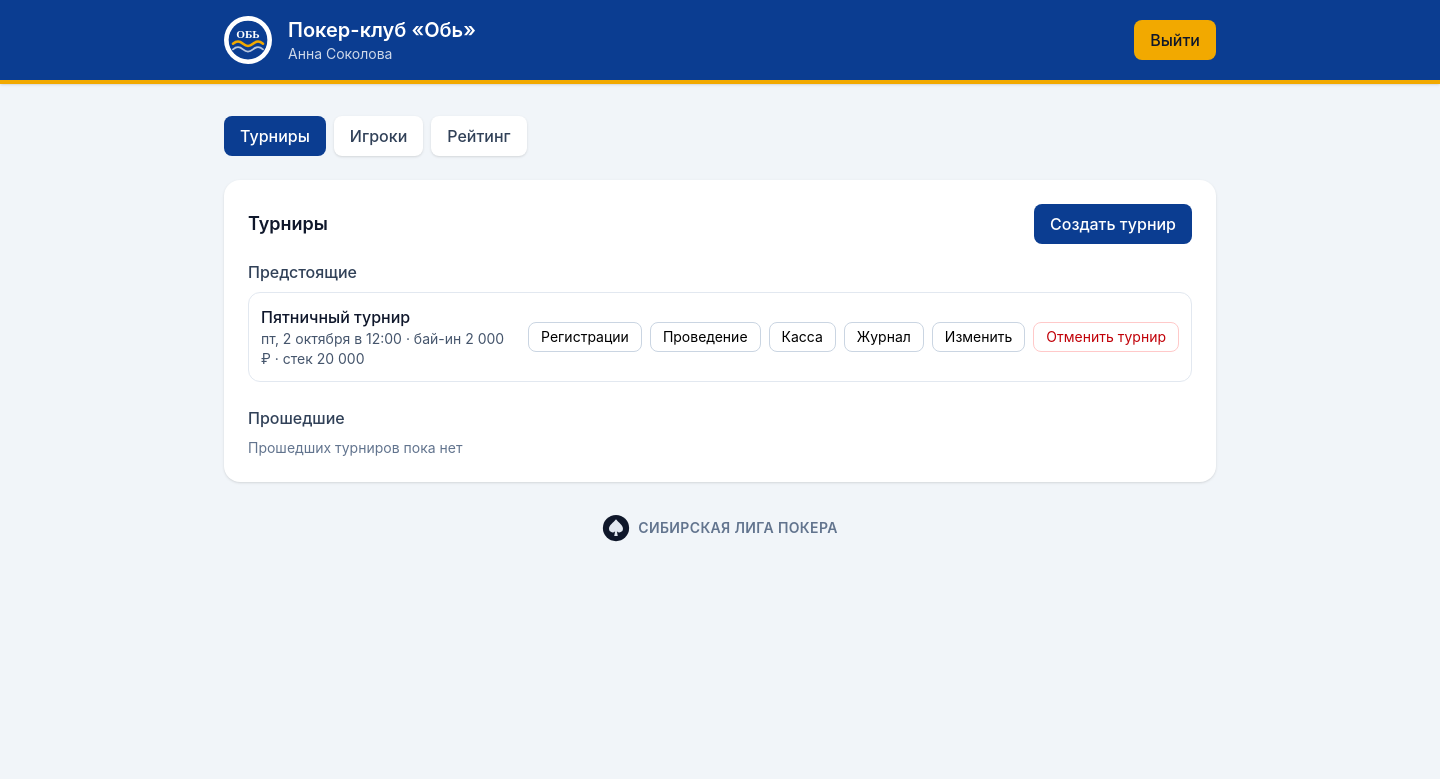
tournament registrations › adds a new player and registers them in one go
This screenshot has width=1440, height=779.
Click the button "Регистрации".
click(585, 337)  # box [528,322,642,352]
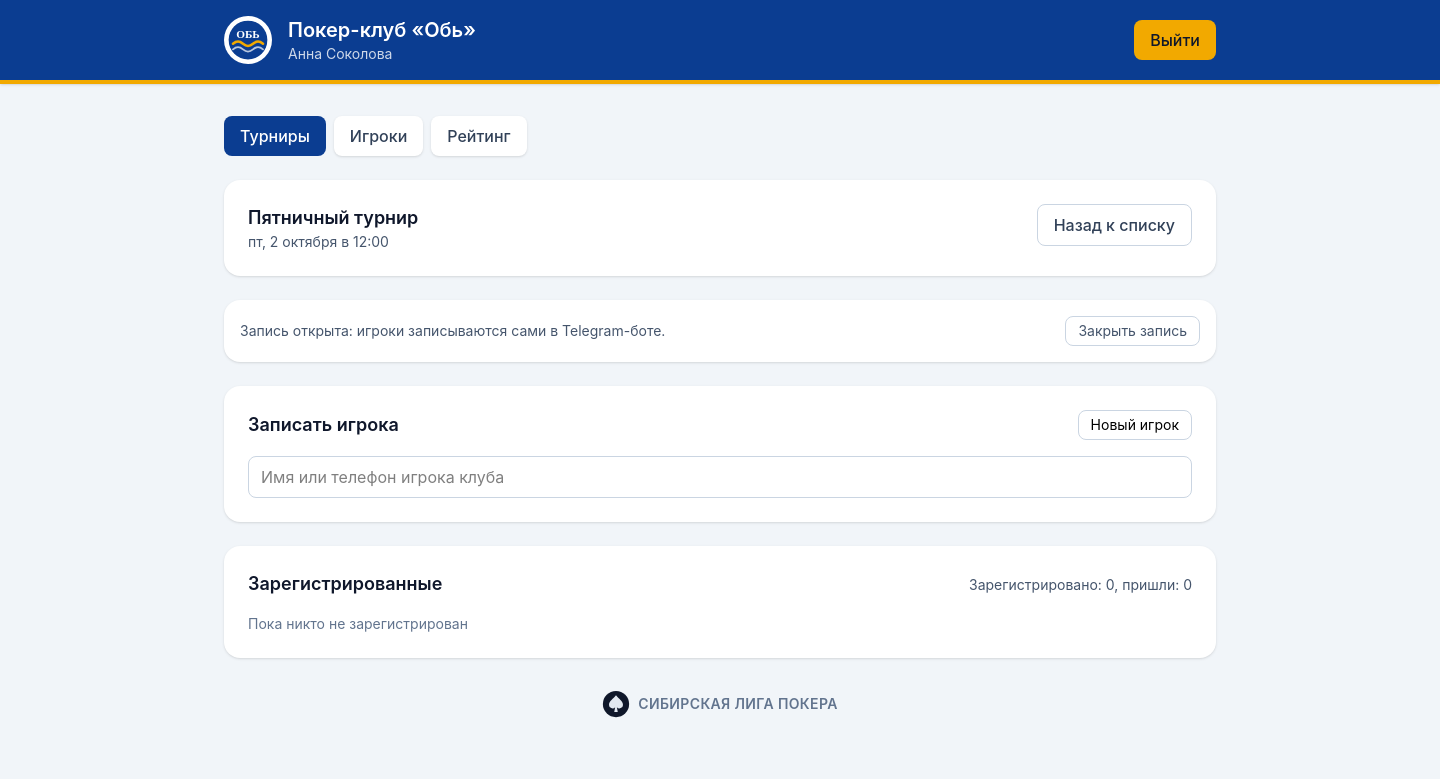
Check: the heading "Пятничный турнир" is shown, box [248,204,418,232]
Click the button "Новый игрок".
click(1135, 425)  # box [1078,410,1192,440]
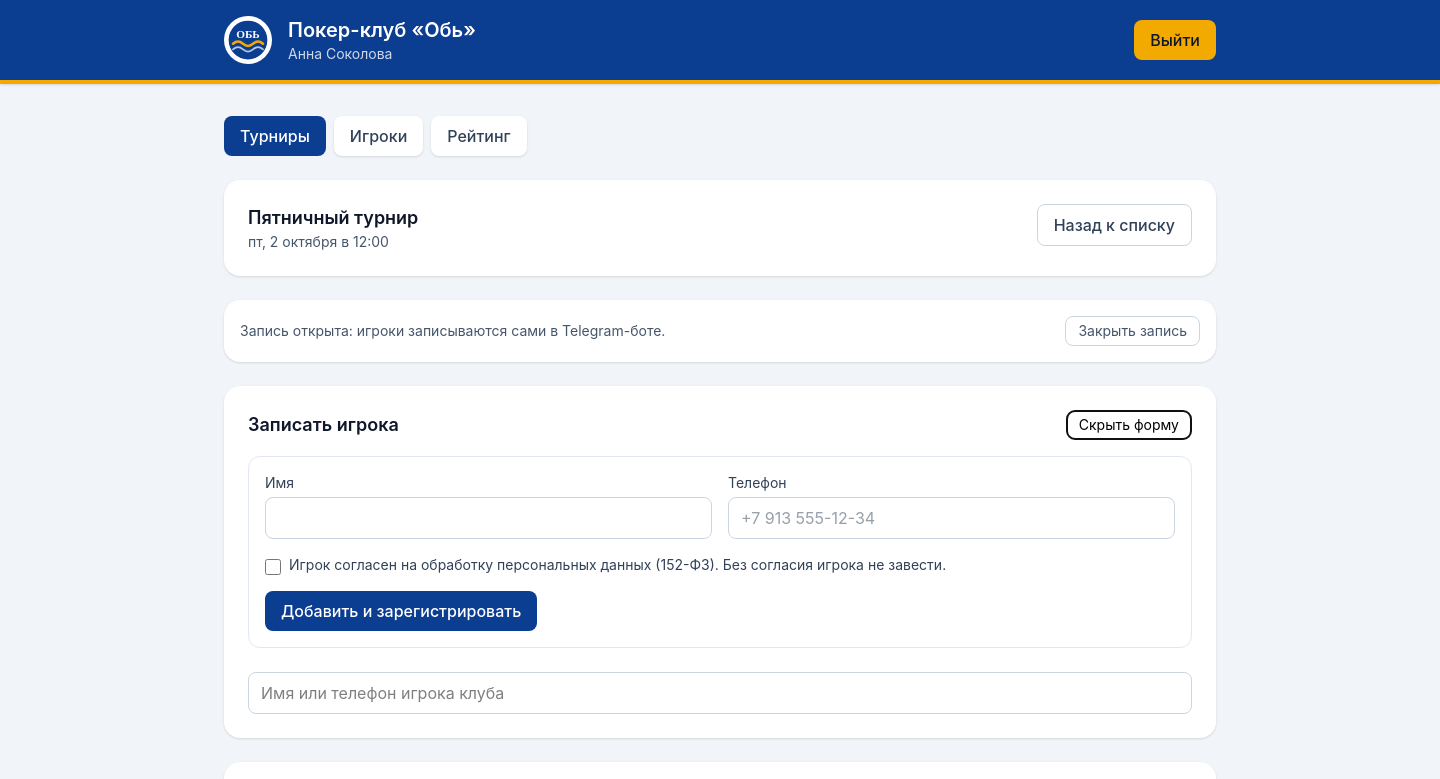
Type "Сергей Никитин" into the field labelled "Имя".
click(488, 518); type("Сергей Никитин")  # box [265,497,712,539]
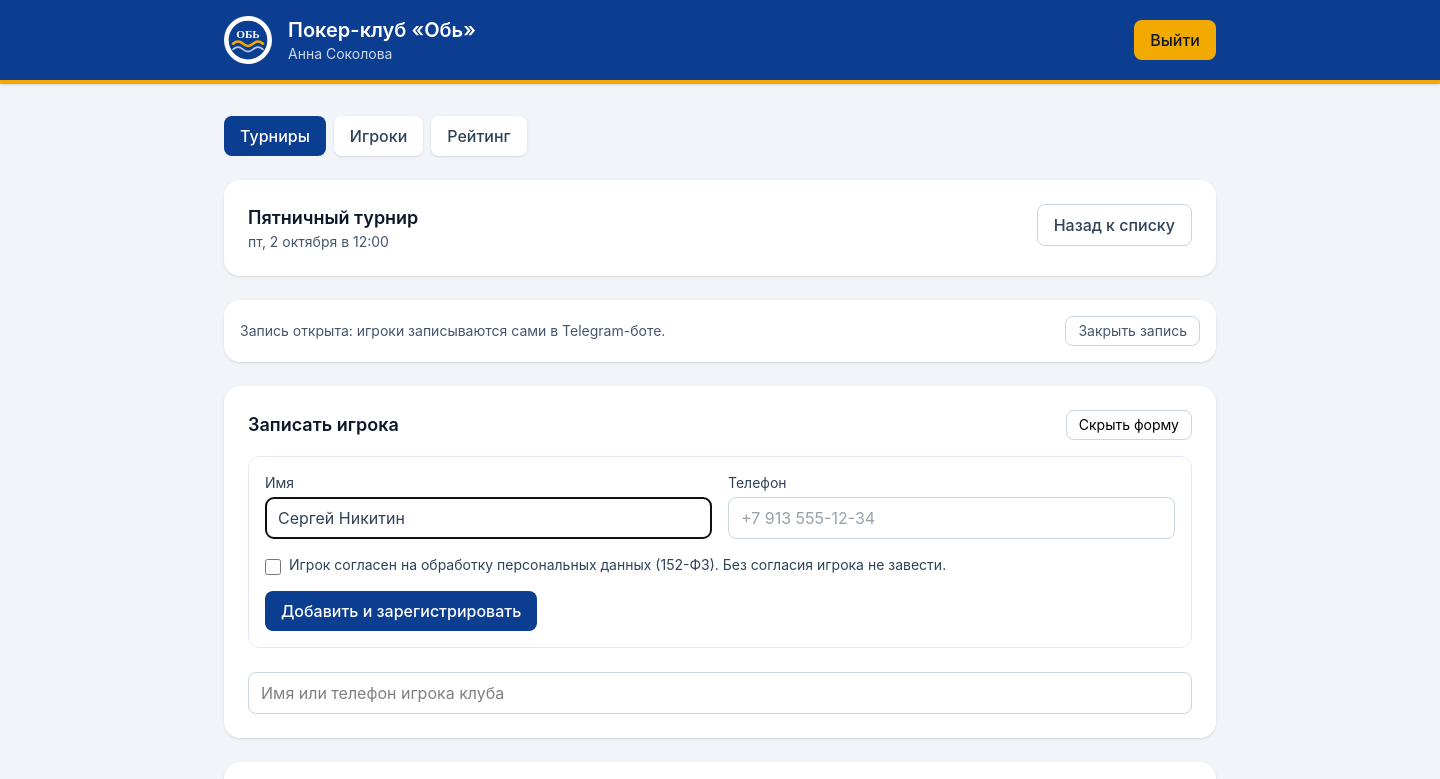
Type "89131110003" into the field labelled "Телефон".
click(952, 518); type("89131110003")  # box [728,497,1175,539]
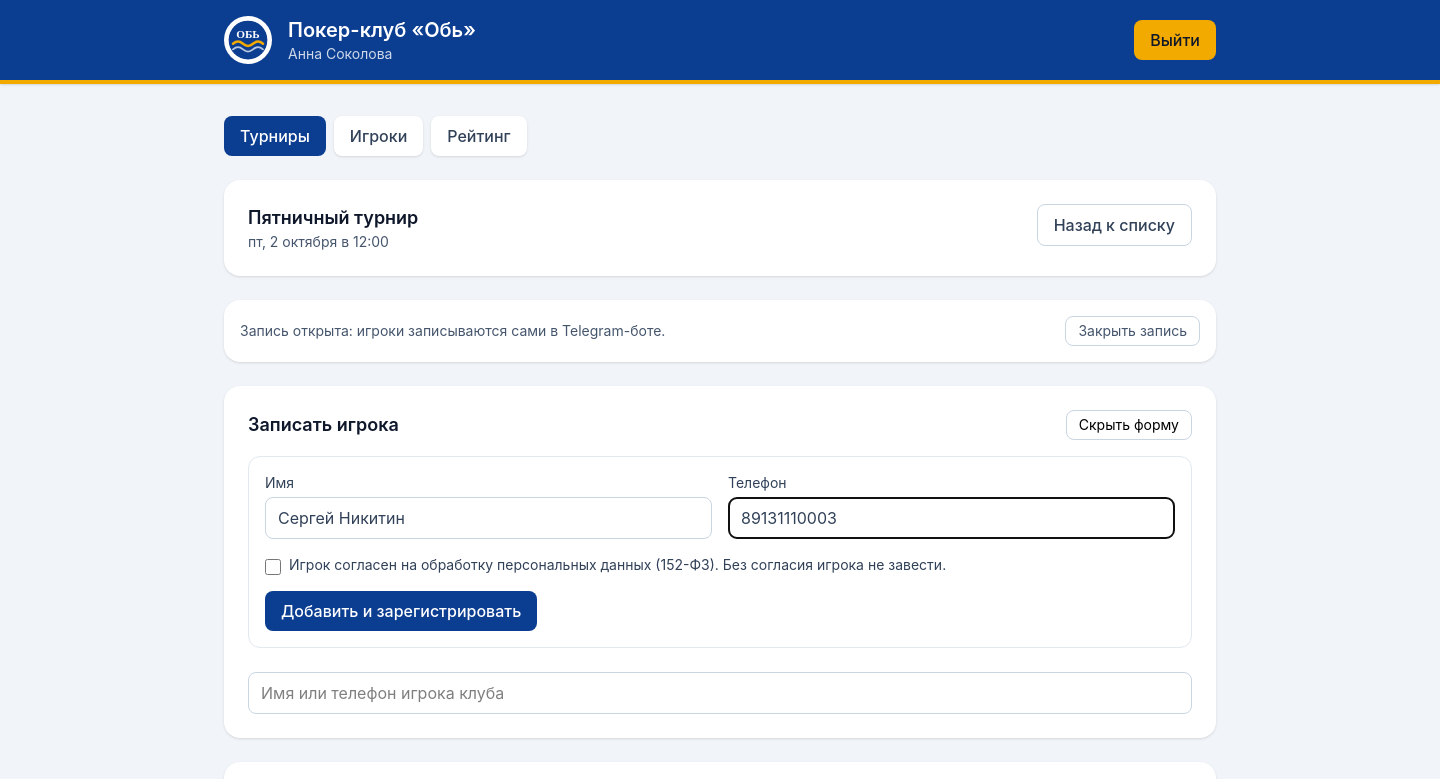
Click the checkbox labelled "Игрок согласен".
click(273, 567)  # box [265,559,281,575]
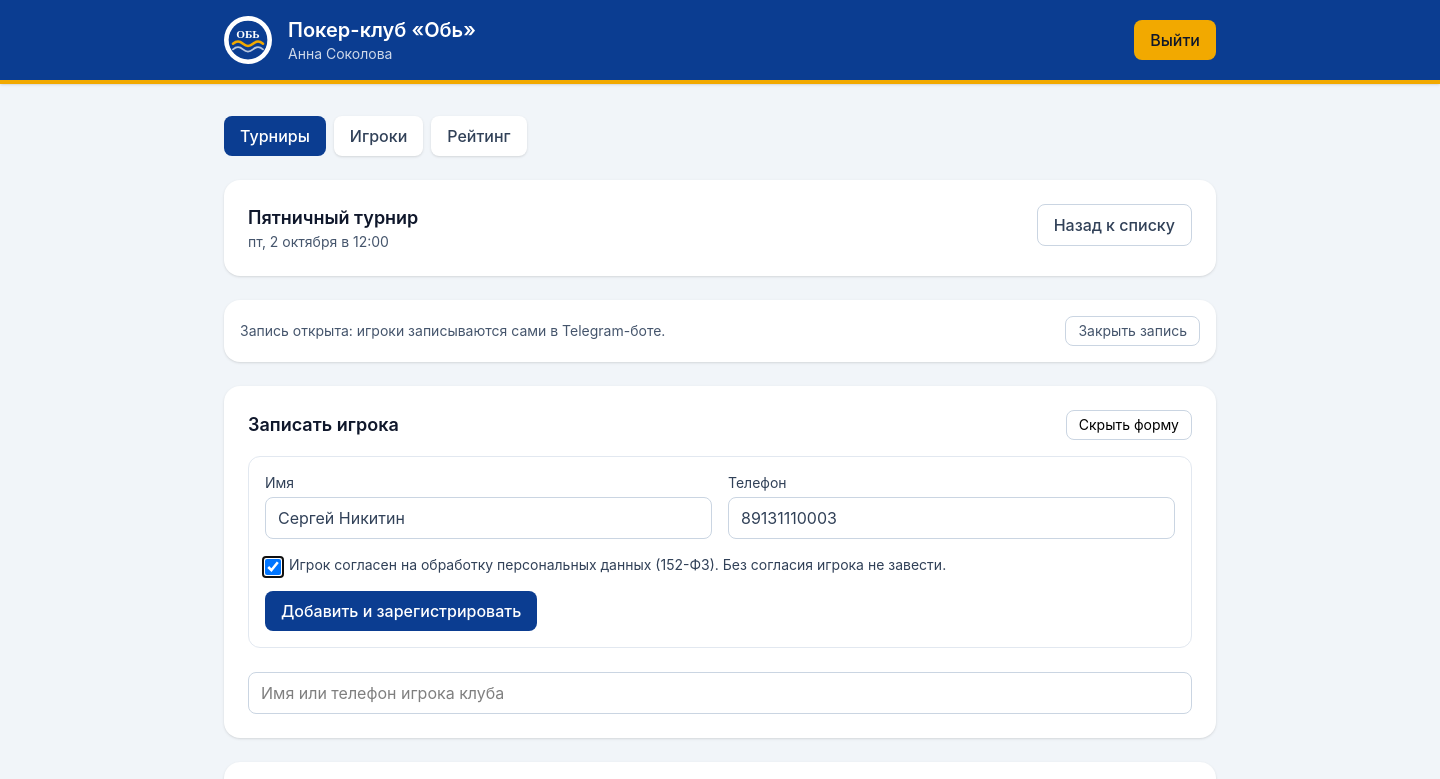
Click the button "Добавить и зарегистрировать".
click(401, 611)  # box [265,591,537,631]
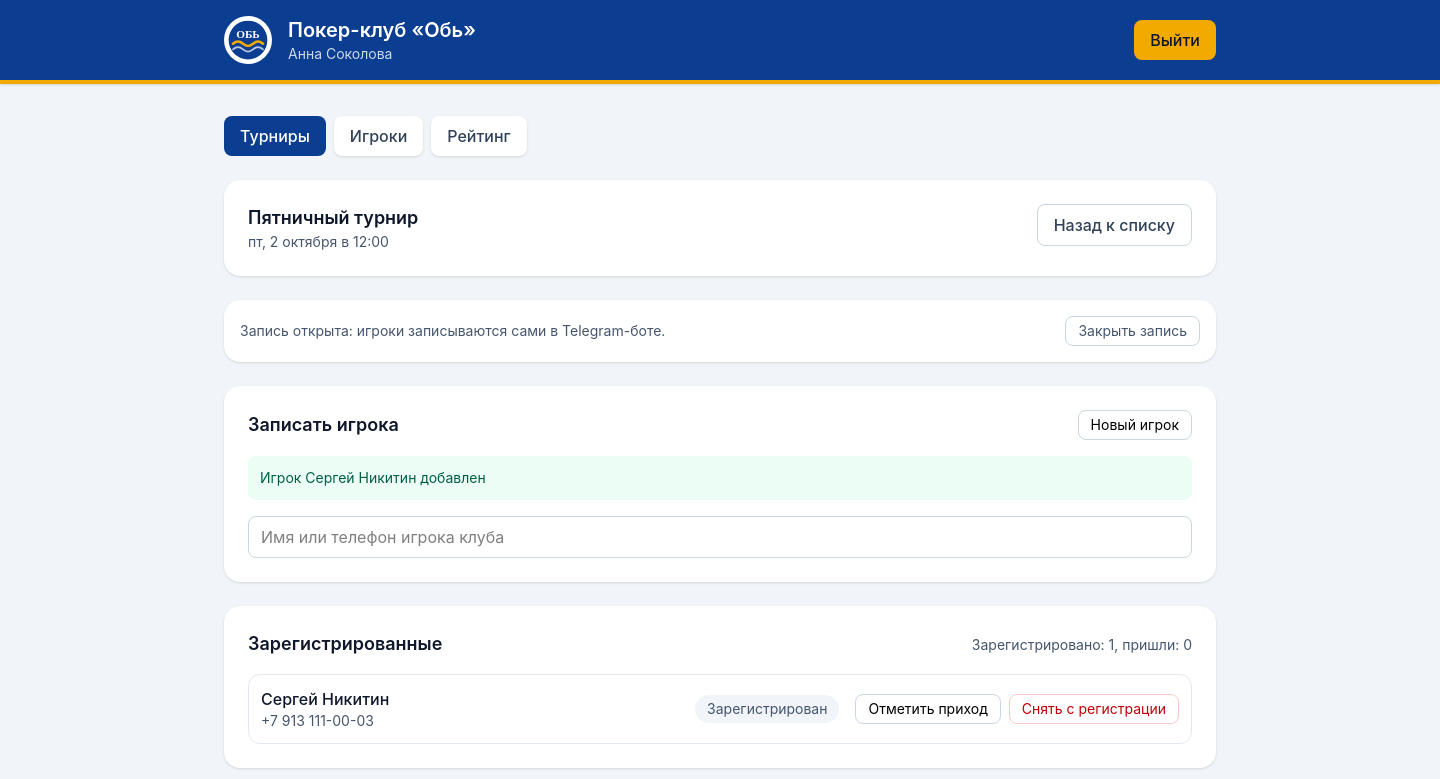
Check: the list item "Сергей Никитин" shows "+7 913 111-00-03", box [261,712,374,729]
